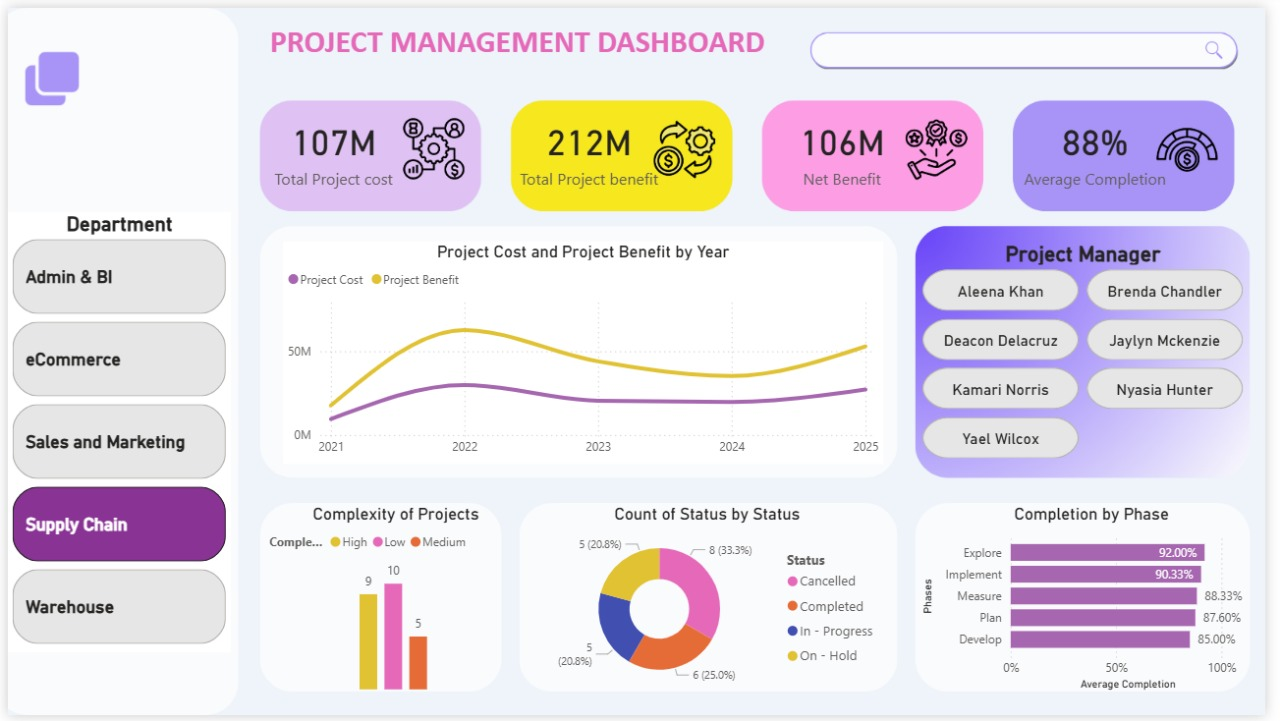

This screenshot's page, from the dashboard's own definition file:
{"tool":"powerbi","page":{"name":"Page 1","canvas":[1280,720],"ordinal":0},"visuals":[{"type":"textbox","box":[212.5,10,612.5,60],"z":0},{"type":"card","fields":{"Values":["Project Management Dataset.Total Project benefit"]},"box":[472.5,70,238.8,150],"z":1000},{"type":"card","fields":{"Values":["Project Management Dataset.Total Project cost"]},"box":[212.5,70,238.8,150],"z":2000},{"type":"card","fields":{"Values":["Project Management Dataset.Net Benefit"]},"box":[730,70,238.8,150],"z":3000},{"type":"card","fields":{"Values":["Project Management Dataset.Average Completion"]},"box":[987.5,70,238.8,150],"z":4000},{"type":"lineChart","fields":{"Y":["Project Management Dataset. Project Cost ","Project Management Dataset. Project Benefit "],"Category":["Project Management Dataset.Start Date.Variation.Date Hierarchy.Year"]},"box":[280,237.5,611.2,227.5],"z":5000},{"type":"donutChart","fields":{"Category":["Project Management Dataset.Status"],"Y":["Project Management Dataset.Status"]},"box":[528.8,505,366.2,195],"z":6000},{"type":"clusteredBarChart","title":"Completion by Phase","fields":{"Y":["Project Management Dataset.Average Completion"],"Category":["Project Management Dataset.Phases"]},"box":[926.2,505,353.8,195],"z":6001},{"type":"clusteredColumnChart","title":"Complexity of Projects","fields":{"Y":["Project Management Dataset.Complexity"],"Series":["Project Management Dataset.Complexity"]},"box":[261.2,505,267.5,195],"z":6002},{"type":"advancedSlicerVisual","fields":{"Values":["Project Management Dataset.Department"]},"box":[0,207.5,227.5,448.8],"z":6003},{"type":"advancedSlicerVisual","fields":{"Values":["Project Management Dataset.Project Manager"]},"box":[926.2,237.5,336.2,228.8],"z":6004}]}

Visuals, with their boxes in screenshot pixels (x1, y1, x2, y2), scaled from the page's 1280x720 canvas onto the 1280x721 screenshot:
textbox: (left=212, top=10, right=825, bottom=70)
card - Project Management Dataset.Total Project benefit: (left=472, top=70, right=711, bottom=220)
card - Project Management Dataset.Total Project cost: (left=212, top=70, right=451, bottom=220)
card - Project Management Dataset.Net Benefit: (left=730, top=70, right=969, bottom=220)
card - Project Management Dataset.Average Completion: (left=988, top=70, right=1226, bottom=220)
lineChart - Project Management Dataset. Project Cost  x Project Management Dataset. Project Benefit : (left=280, top=238, right=891, bottom=466)
donutChart - Project Management Dataset.Status x Project Management Dataset.Status: (left=529, top=506, right=895, bottom=701)
"Completion by Phase" clusteredBarChart: (left=926, top=506, right=1279, bottom=701)
"Complexity of Projects" clusteredColumnChart: (left=261, top=506, right=529, bottom=701)
advancedSlicerVisual - Project Management Dataset.Department: (left=0, top=208, right=228, bottom=657)
advancedSlicerVisual - Project Management Dataset.Project Manager: (left=926, top=238, right=1262, bottom=467)
